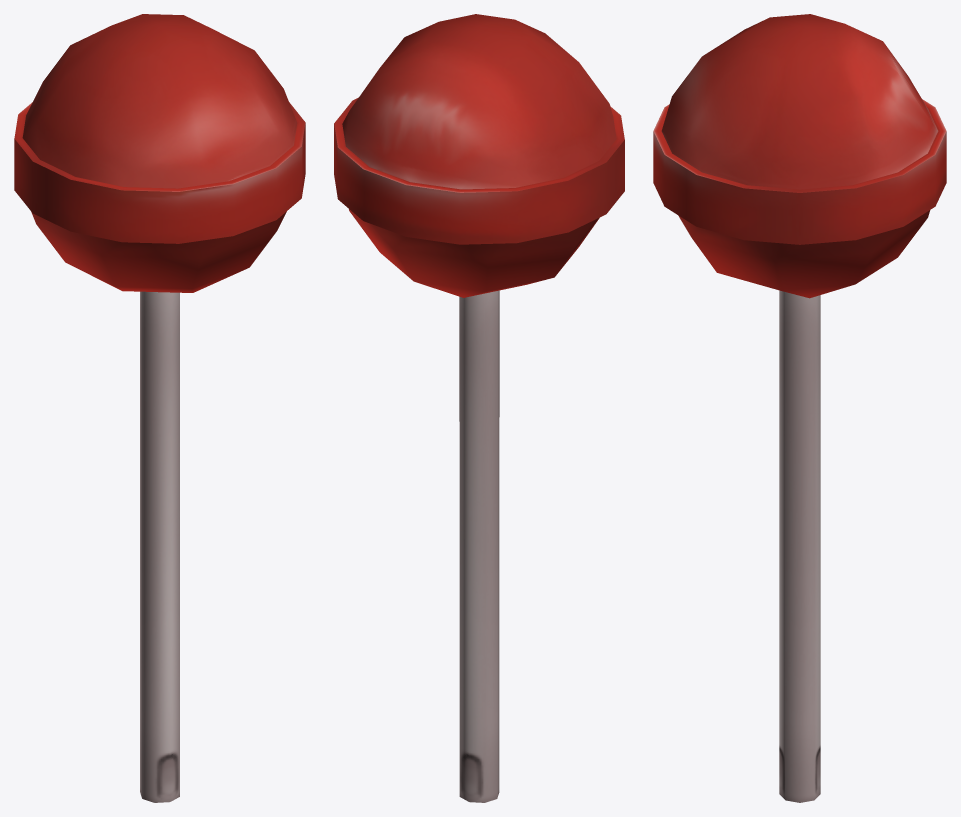
File: lollipopred.fbx
The picture shows the model from 3 angles, left to right: view 1: azimuth 30°, elevation 25°; view 2: azimuth 150°, elevation 25°; view 3: azimuth 270°, elevation 25°; orthographic projection.
Parts seen in each view (by area): view 1: lollipopred; view 2: lollipopred; view 3: lollipopred.
Part boxes in pixels (left/top/right/bottom): lollipopred: left=14, top=14, right=305, bottom=802; lollipopred: left=334, top=14, right=624, bottom=802; lollipopred: left=653, top=14, right=946, bottom=802.
Size of the model in its own units: 7.52 by 21.74 by 7.52.
